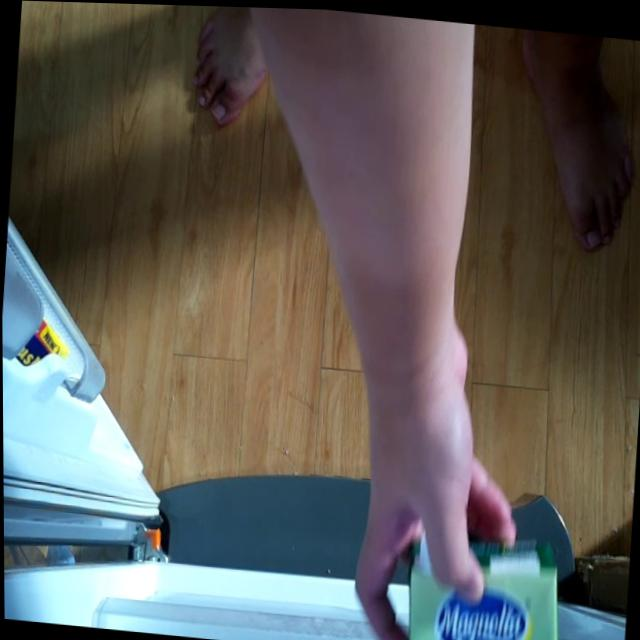milk: (393, 523, 566, 640)
